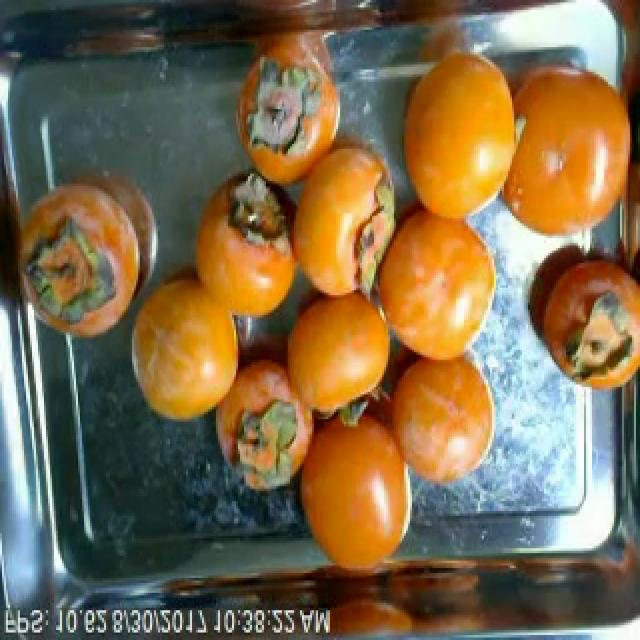Fruit: (384, 323, 508, 501), (516, 228, 638, 396)
